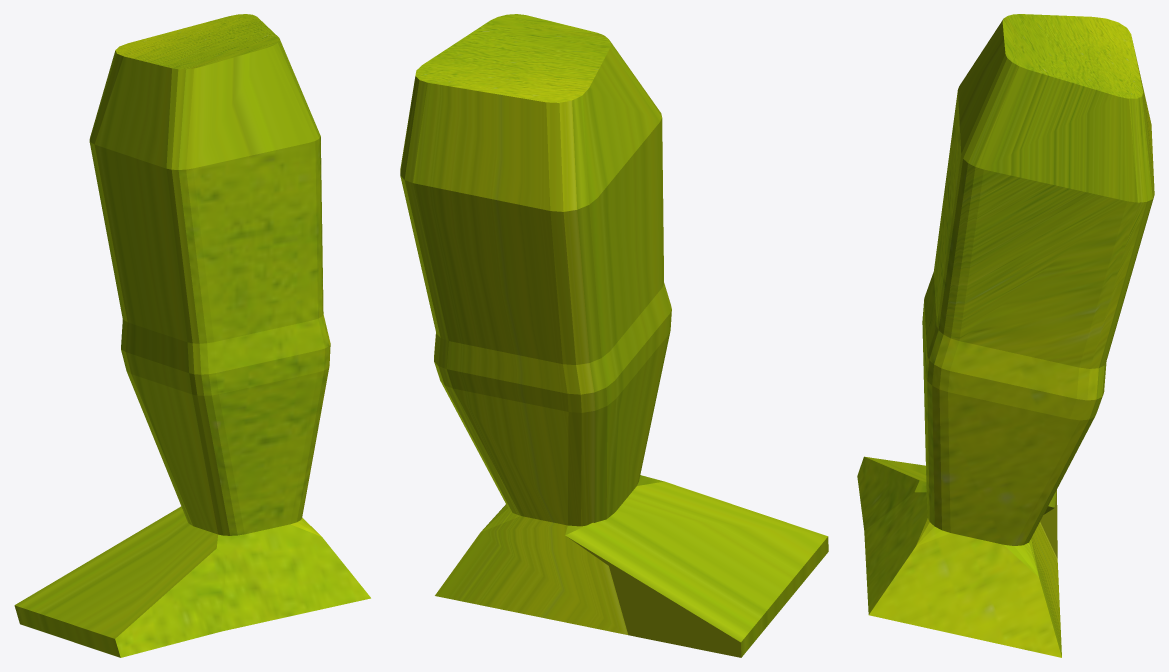
The model's file is shrekleg.glb.
3 renders of one model, left to right at view 1: azimuth 30°, elevation 25°; view 2: azimuth 150°, elevation 25°; view 3: azimuth 270°, elevation 25°, orthographic. The views are drawn at different scales.
Parts seen in each view (by area): view 1: Cube; view 2: Cube; view 3: Cube.
Part boxes in pixels (x1,y1,x2,y2): Cube: (14,14,370,657); Cube: (400,14,828,657); Cube: (857,14,1154,657).
Size of the model in its own units: 1.27 by 2.3 by 1.08.
Materials: 1 (1 with a texture image).
